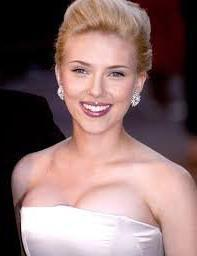Sober: (66, 41, 134, 128)
